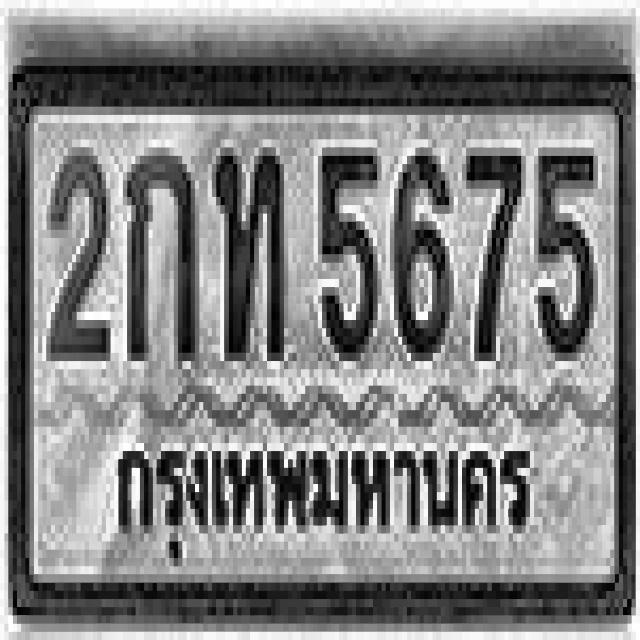license-plate: (11, 65, 633, 618)
